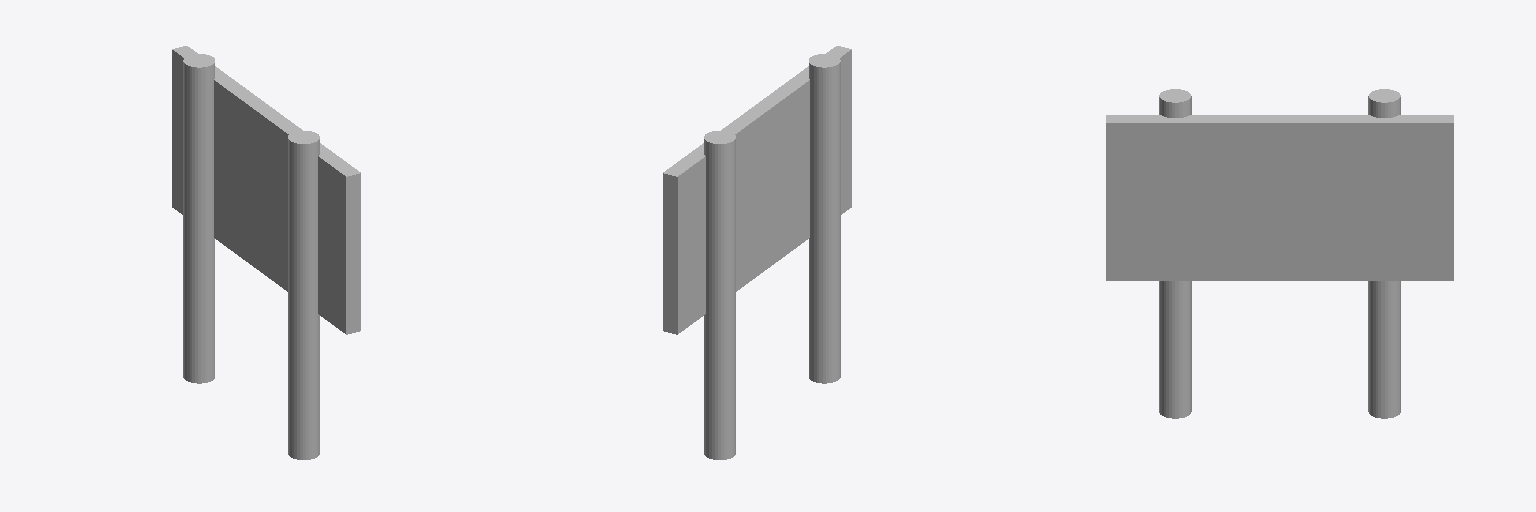
The model's file is board.obj.
The picture shows the model from 3 angles: view 1: azimuth 30°, elevation 25°; view 2: azimuth 150°, elevation 25°; view 3: azimuth 270°, elevation 25°; orthographic projection.
Parts seen in each view (by area): view 1: Cube, Cylinder, Cylinder.001; view 2: Cube, Cylinder.001, Cylinder; view 3: Cube, Cylinder, Cylinder.001.
Part boxes in pixels (left/top/right/bottom): Cube: left=172, top=46, right=360, bottom=334; Cylinder: left=183, top=54, right=214, bottom=383; Cylinder.001: left=288, top=131, right=319, bottom=459; Cube: left=663, top=46, right=851, bottom=334; Cylinder.001: left=809, top=54, right=840, bottom=383; Cylinder: left=704, top=131, right=735, bottom=459; Cube: left=1106, top=115, right=1453, bottom=280; Cylinder: left=1368, top=89, right=1400, bottom=418; Cylinder.001: left=1159, top=89, right=1191, bottom=418.
Size of the model in its own units: 0.2426 by 2 by 2.